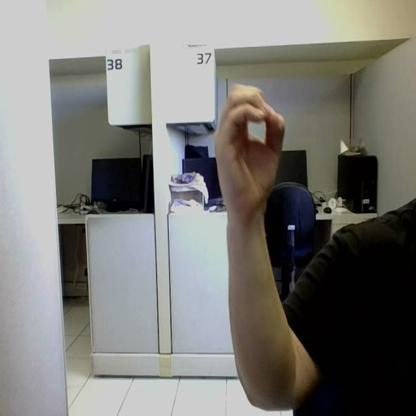O: (215, 83, 285, 209)
